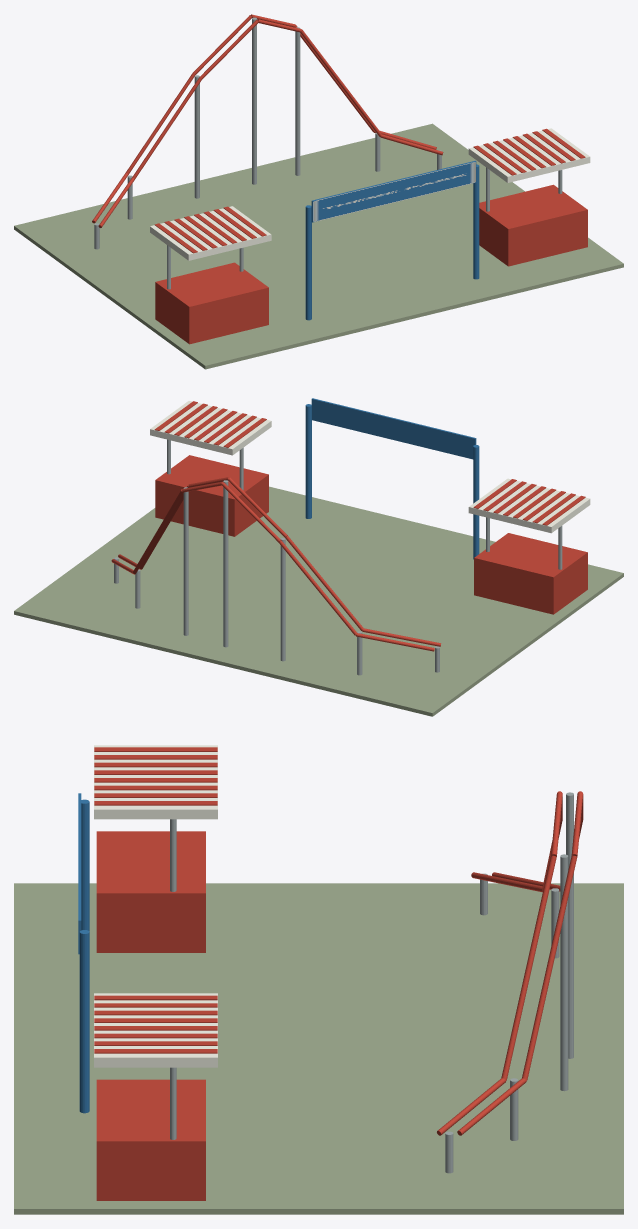
The model's file is scendance-plan-themepark.glb.
The picture shows the model from 3 angles, top to bottom: view 1: azimuth 30°, elevation 25°; view 2: azimuth 150°, elevation 25°; view 3: azimuth 270°, elevation 25°; orthographic projection. The views are drawn at different scales.
Size of the model in its own units: 12 by 4.66 by 9.5.
6 materials, 1 textured.
